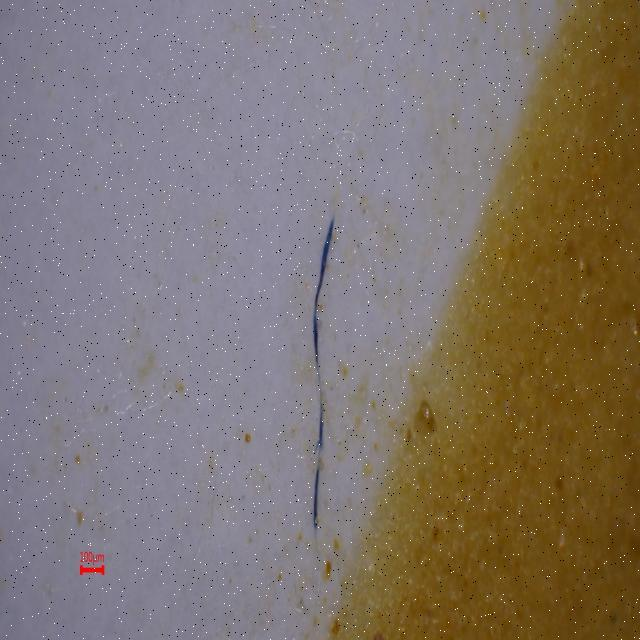fiber: (307, 210, 342, 536)
